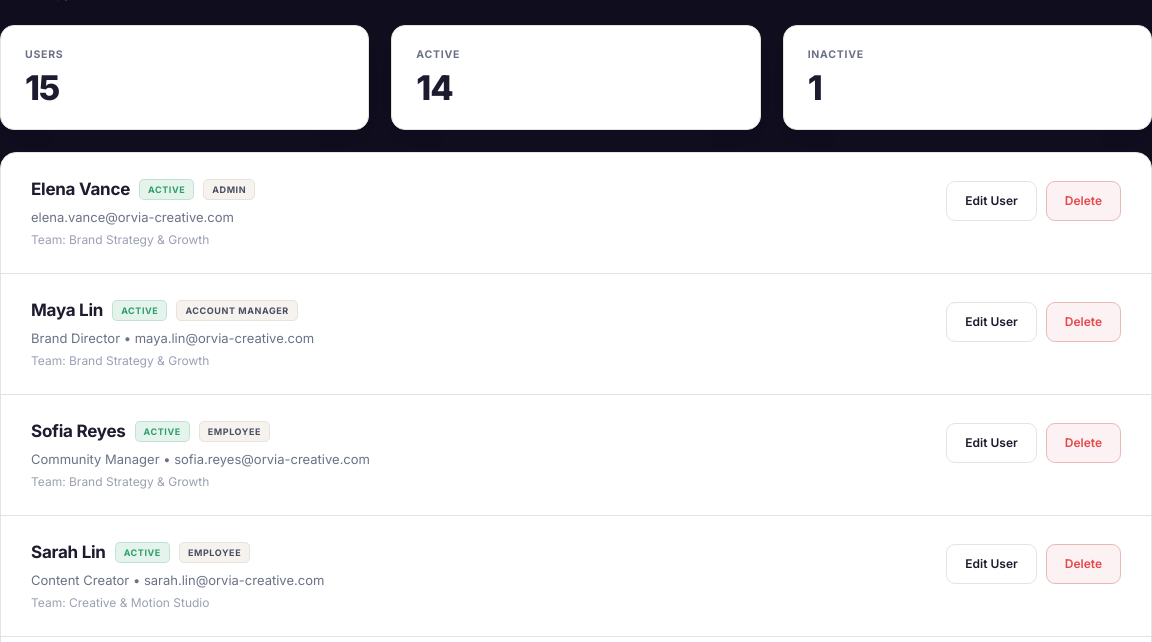
Test case: UserAccessPage directory › expands a user inline, saves the changes, and persists them locally
This screenshot has width=1152, height=642.
# Elena is admin, so Job Title field should not be present
Click the button "Edit User" in the row of "ADMIN". click: [992, 201]
box: [946,181,1037,221]
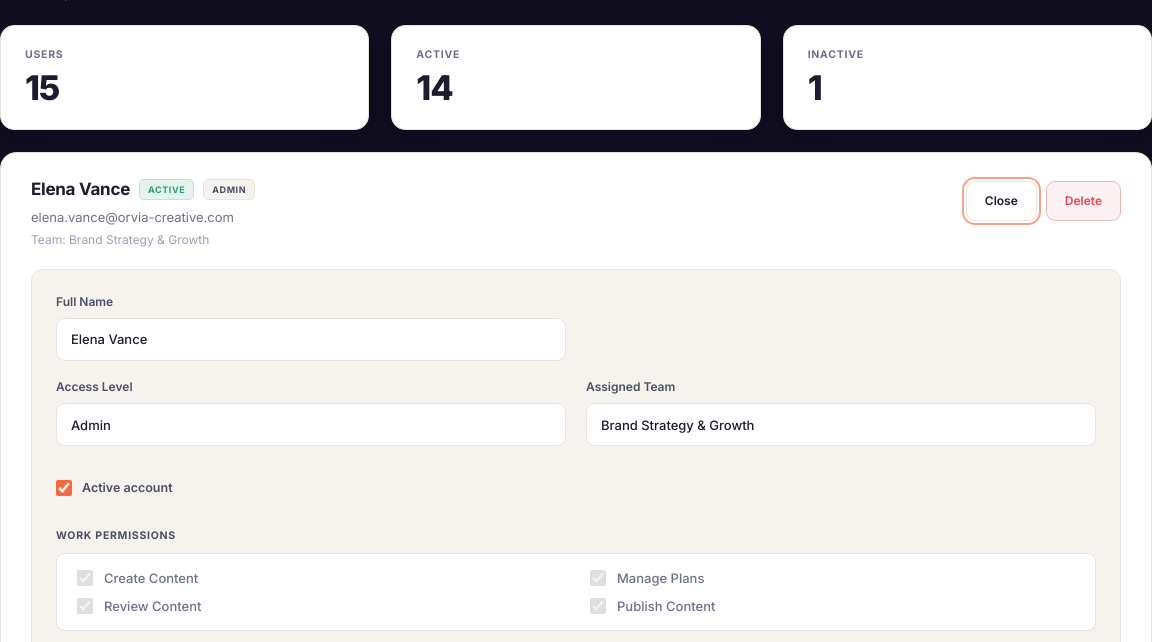
expect the field labelled "Job Title" is not shown: met
expect the field labelled "Full Name" holds "Elena Vance": met, box [56,318,566,361]
Click the button "Close". click: [1001, 201]
box: [966,181,1037,221]
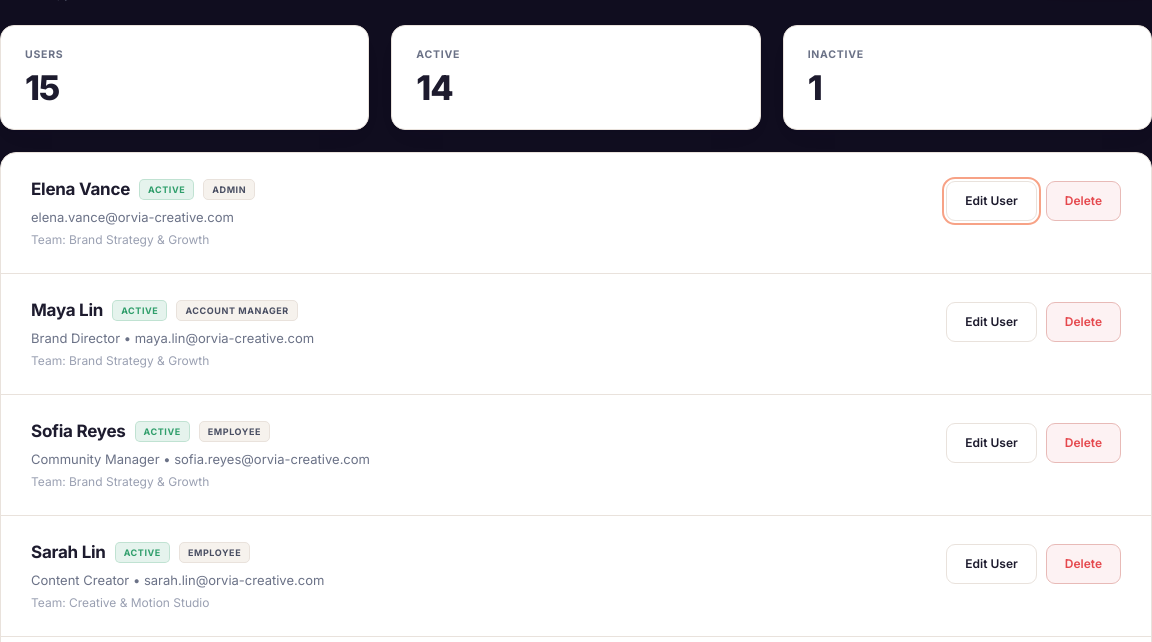
# Maya Lin is account_manager, so Job Title is present
Click the button "Edit User" in the row of "Maya Lin". click: [992, 322]
box: [946,302,1037,342]
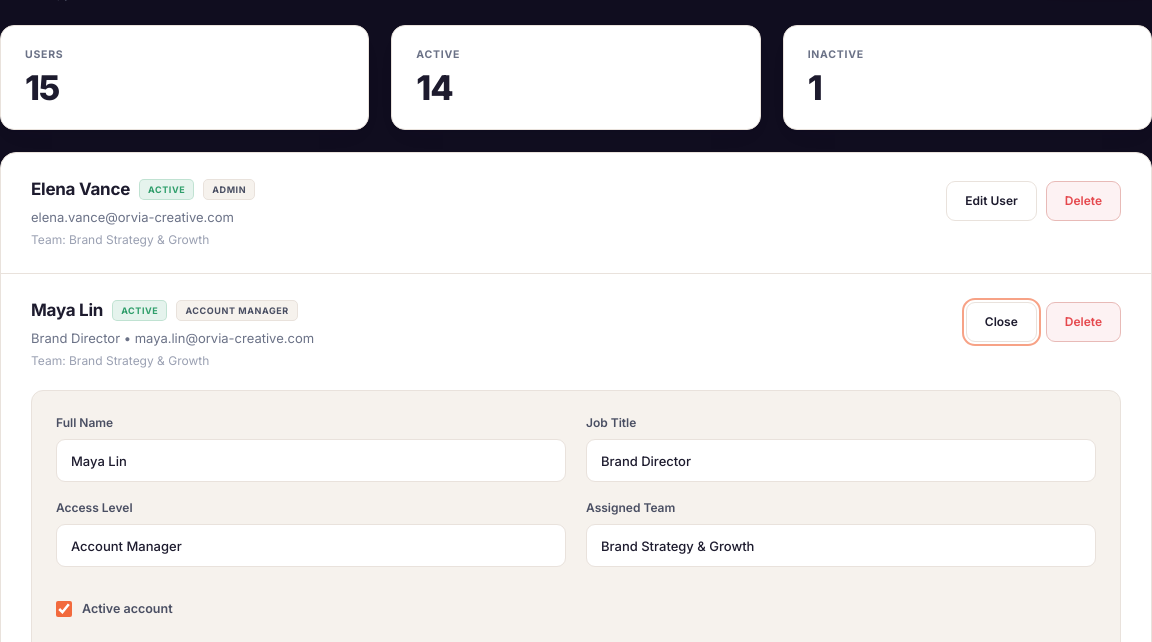
expect the field labelled "Full Name" holds "Maya Lin": met
expect the dropdown labelled "Job Title" is shown: met, box [586,439,1096,482]
Replace the text in the field labelled "Full Name" with "Maya L. Lin". click: [311, 460]
box: [56,439,566,482]
(page scrolled)
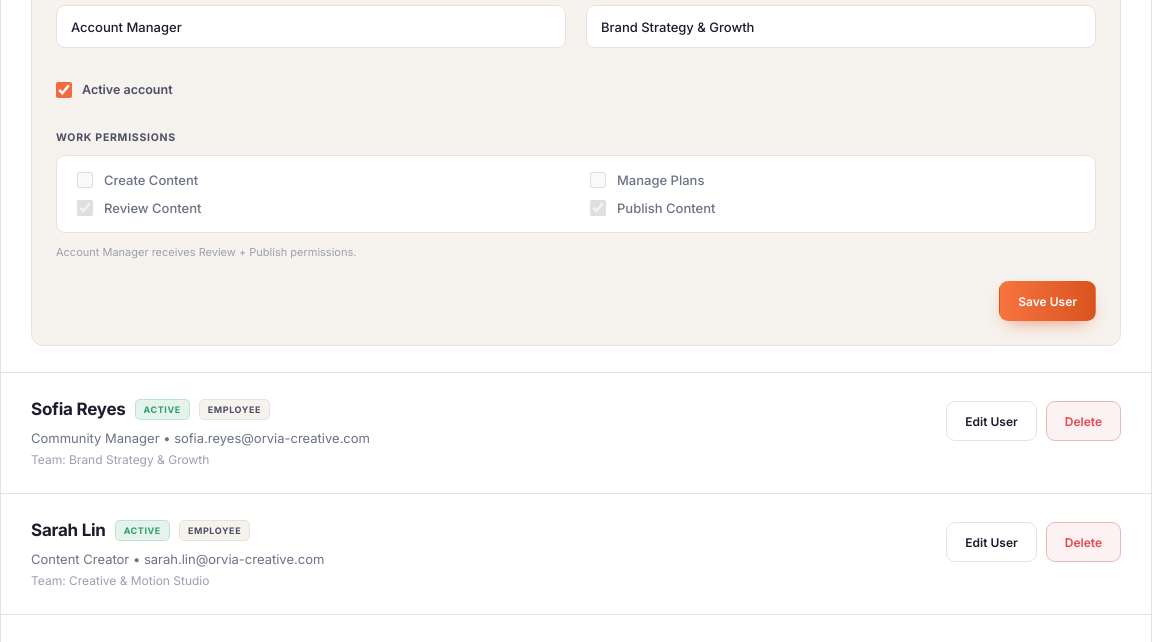
Click the button "Save User". click: [1048, 301]
box: [999,281,1096,321]
(page scrolled)
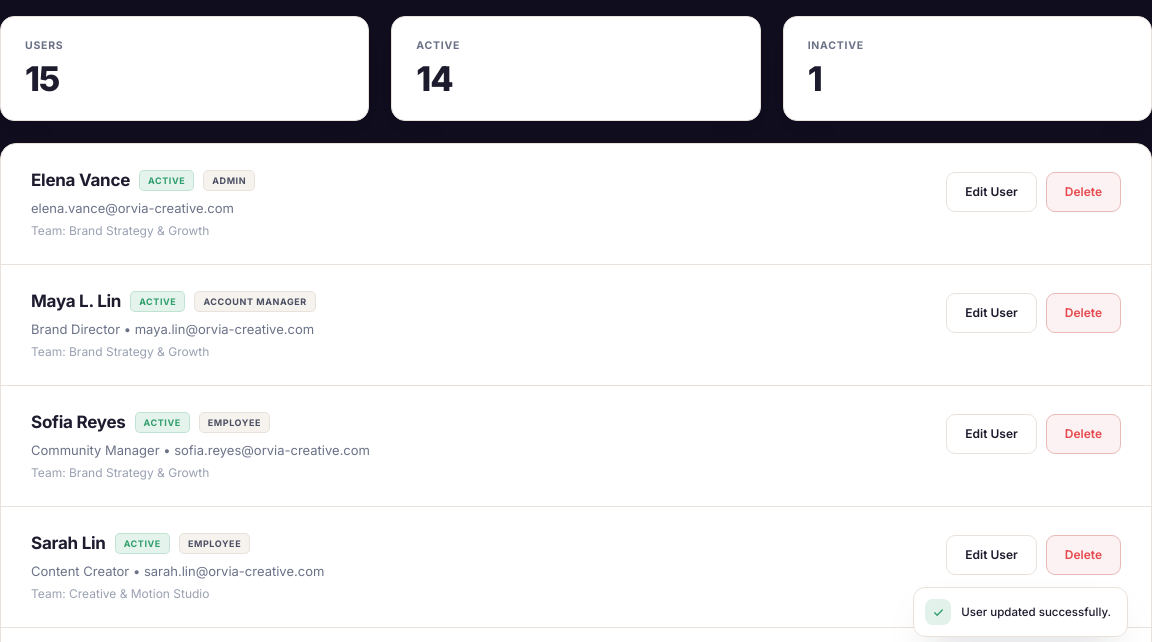
expect the text "Maya L. Lin" is shown: met, box [31,291,121,312]
